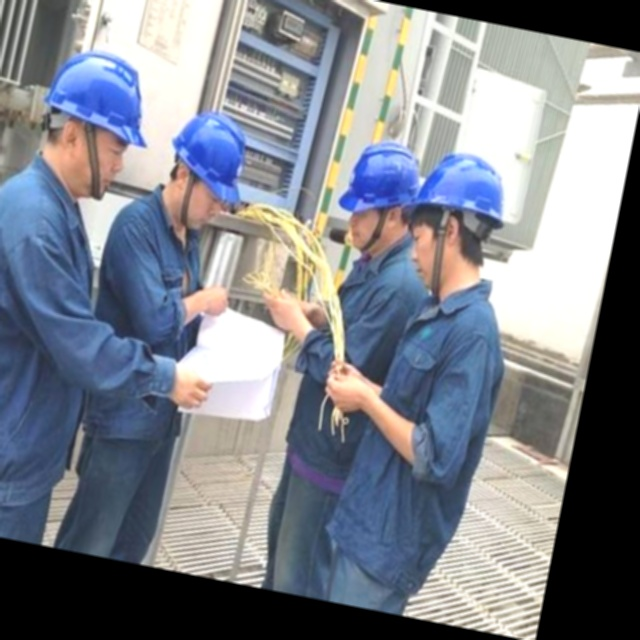Con_Casco: (32, 44, 163, 205), (157, 105, 256, 230)
